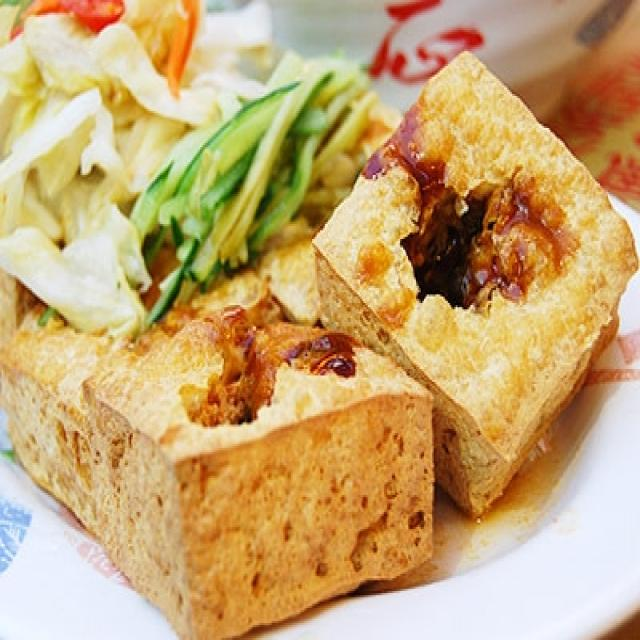豆腐料理: (9, 21, 634, 604)
